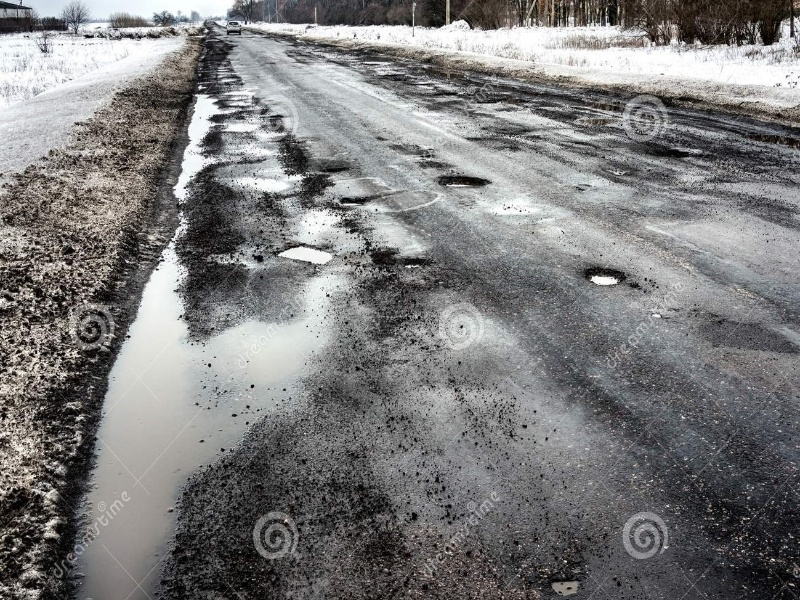pothole: (270, 240, 335, 272), (577, 263, 632, 292), (432, 170, 496, 194), (395, 252, 436, 274), (329, 192, 367, 208), (316, 163, 352, 177)
